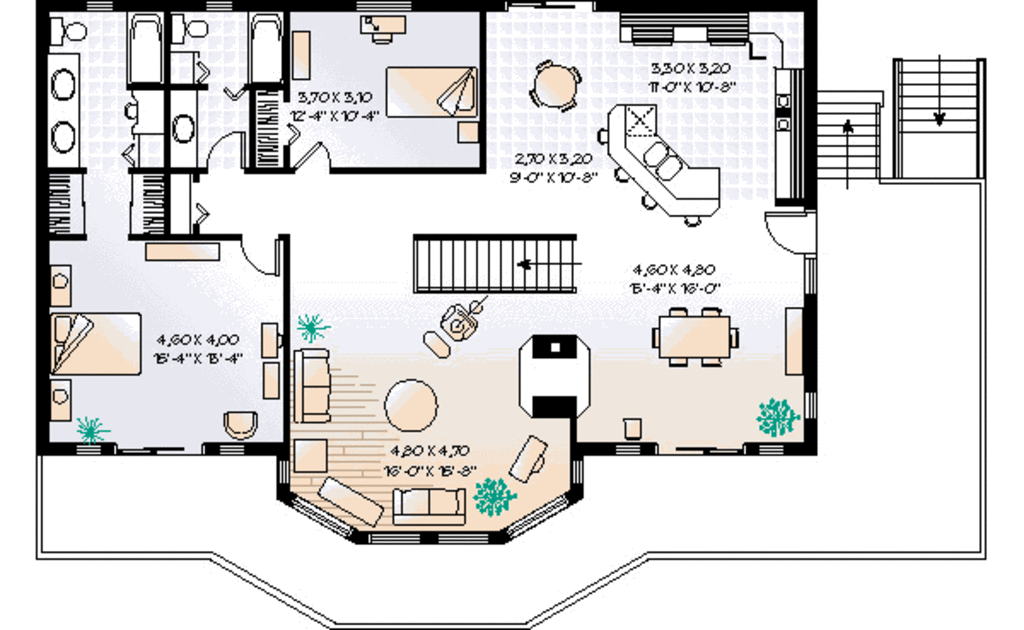bed: (50, 308, 146, 378), (384, 63, 478, 119)
dining_table: (650, 304, 740, 369)
door: (764, 210, 818, 255), (236, 231, 280, 279), (209, 129, 249, 174)
kitchen_bar: (596, 101, 725, 230)
large_sink: (48, 14, 87, 54), (172, 12, 212, 50)
large_sofa: (390, 482, 466, 529), (291, 346, 332, 425)
round_table: (527, 59, 584, 116)
small_sink: (48, 52, 81, 170), (169, 89, 201, 171)
stairs: (893, 55, 990, 183), (409, 231, 581, 297), (818, 85, 887, 187)
tub: (248, 10, 285, 82), (127, 9, 161, 83)
windows: (358, 531, 497, 550), (352, 1, 413, 17), (801, 255, 821, 297), (803, 390, 820, 423)
